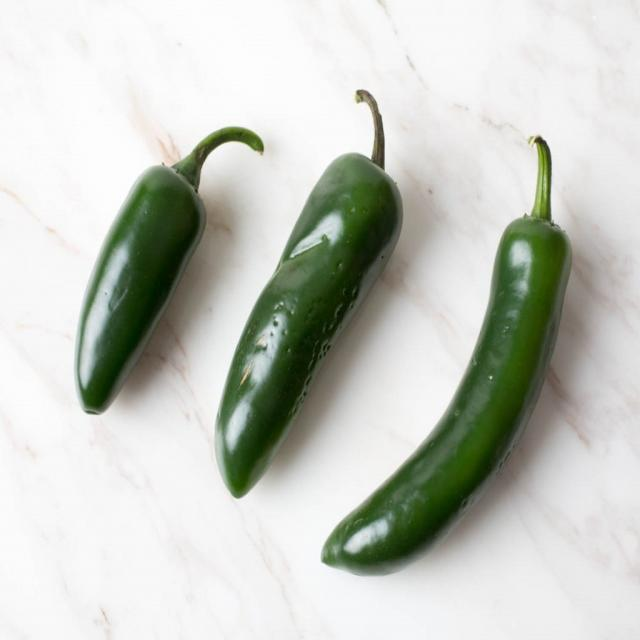aji: (322, 192, 596, 592), (224, 116, 405, 506), (59, 113, 205, 415)
